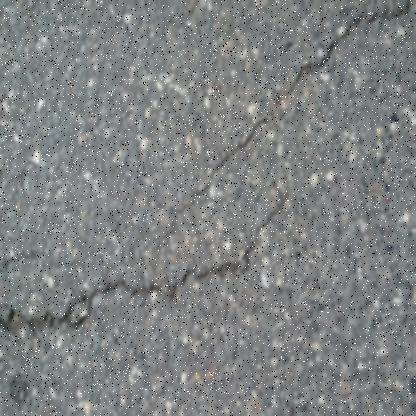Cracks: (194, 0, 416, 198), (0, 200, 288, 352)
